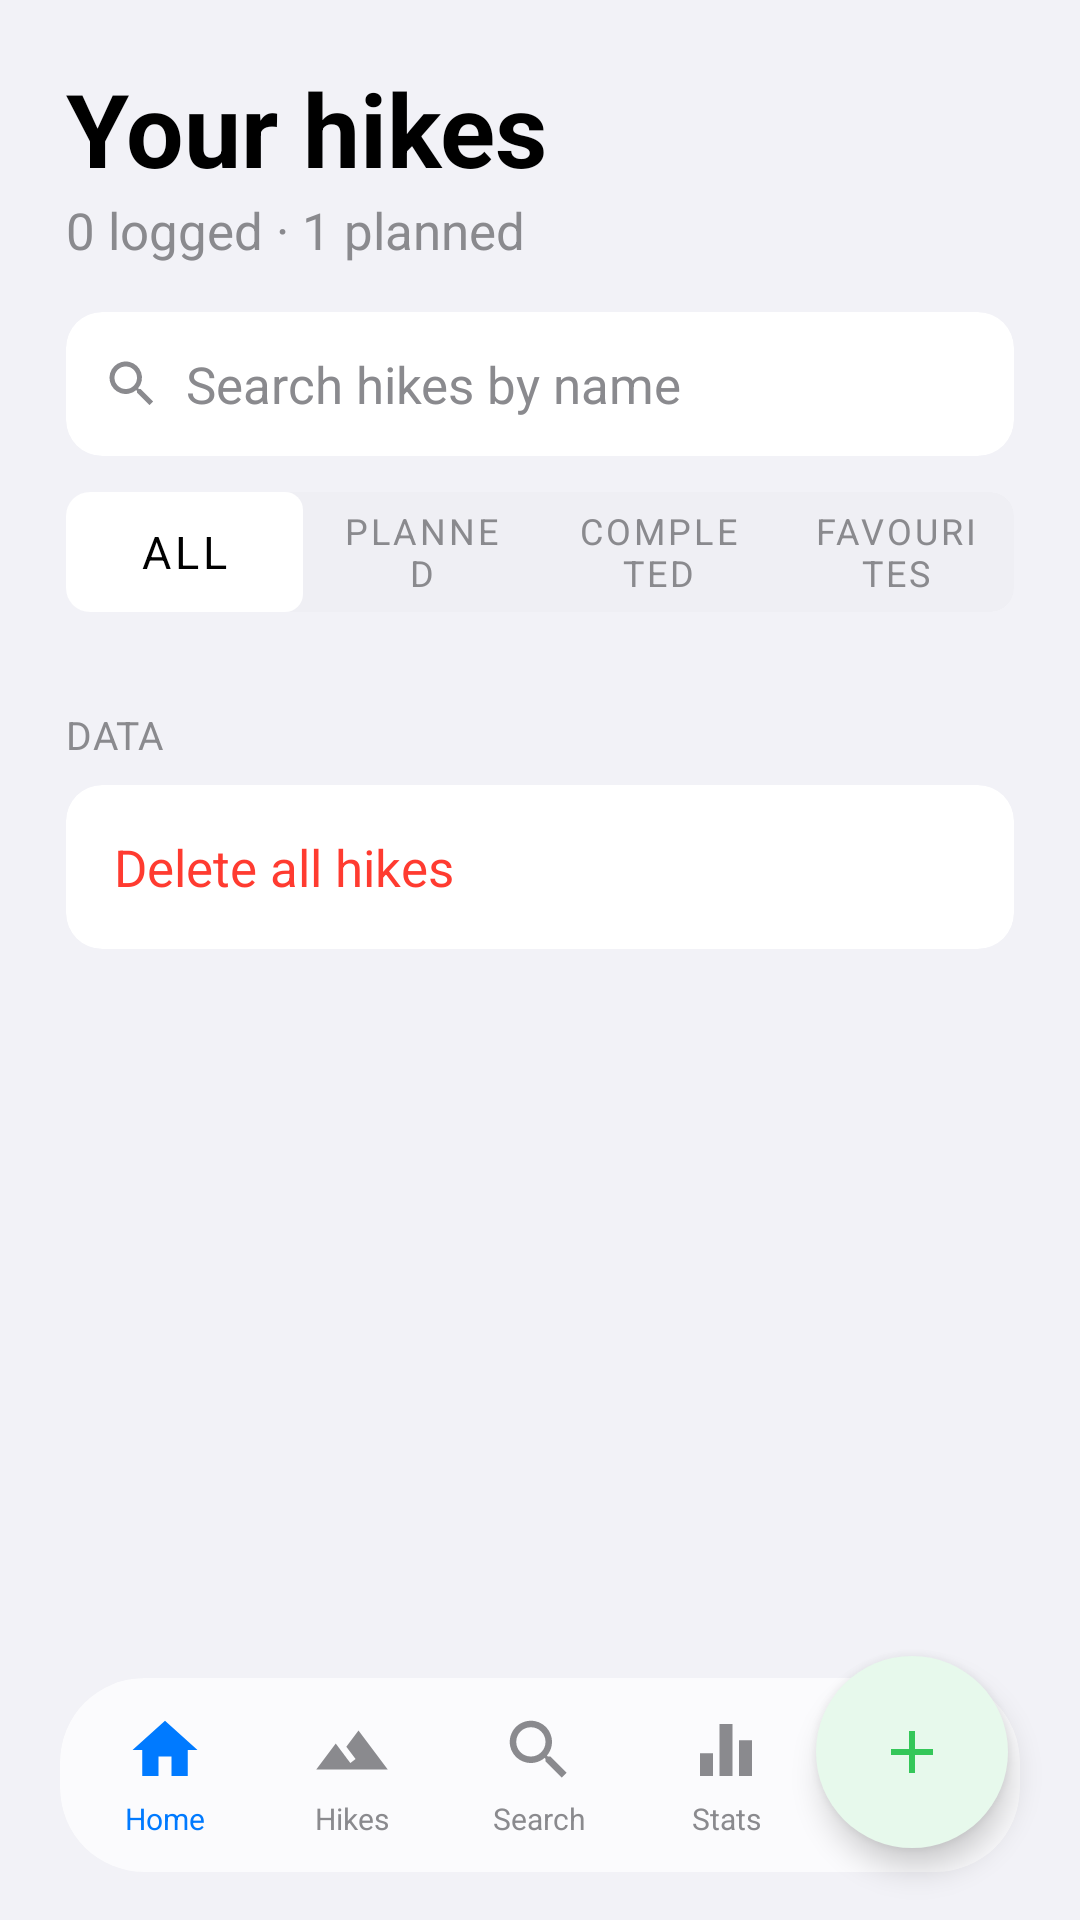

Icons on this 1080w x 1920h Android screen, each with its box as (x1=x1, y1=y1, x2=x2, y2=y2):
plus: (x1=816, y1=1656, x2=1008, y2=1848)
